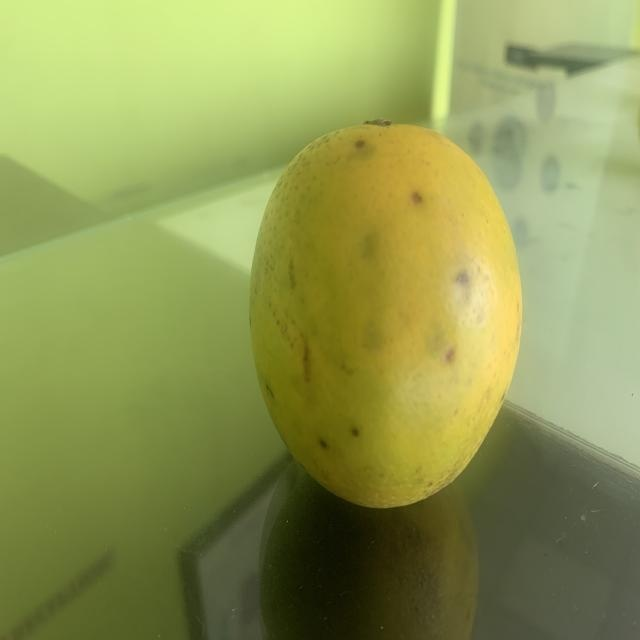agrume: (246, 110, 538, 516)
